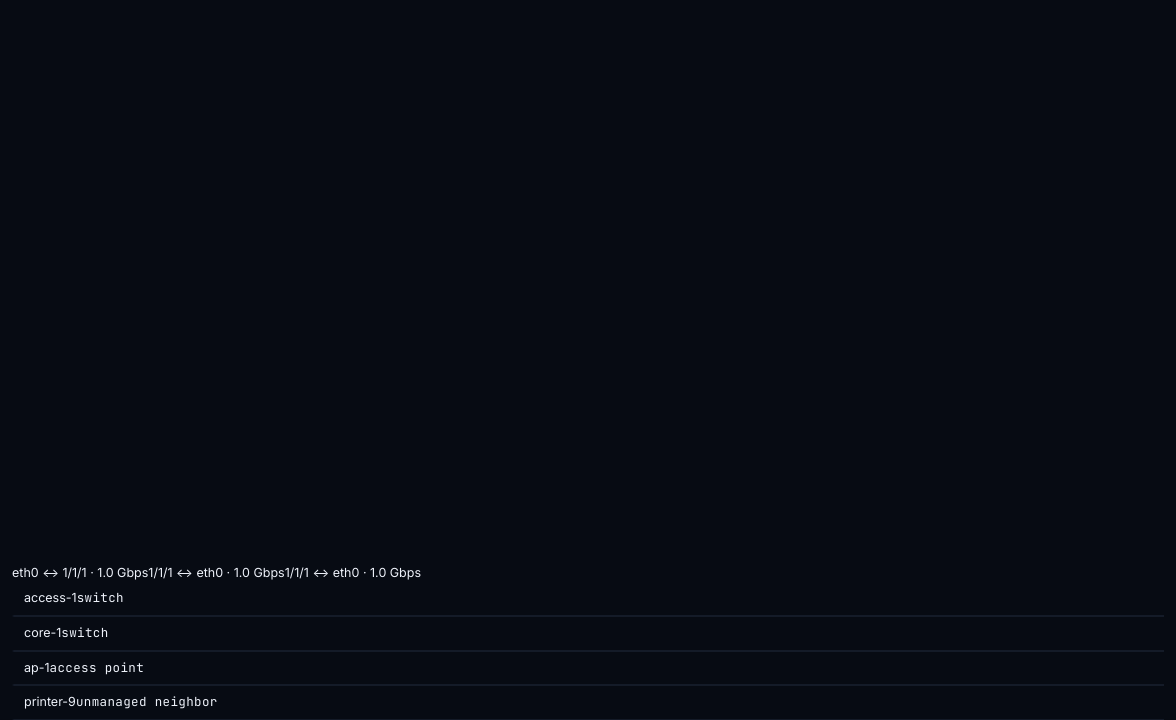
Test: SiteTopologyDiagram — entering focus › dims the edges that do not reach the focused node
(page scrolled)
What coordinates should you click on to do the following:
click the button with aria-label "Open device core-1"
I would click on:
 (43, 632)
Its box is x1=12 y1=616 x2=1164 y2=651.
(page scrolled)
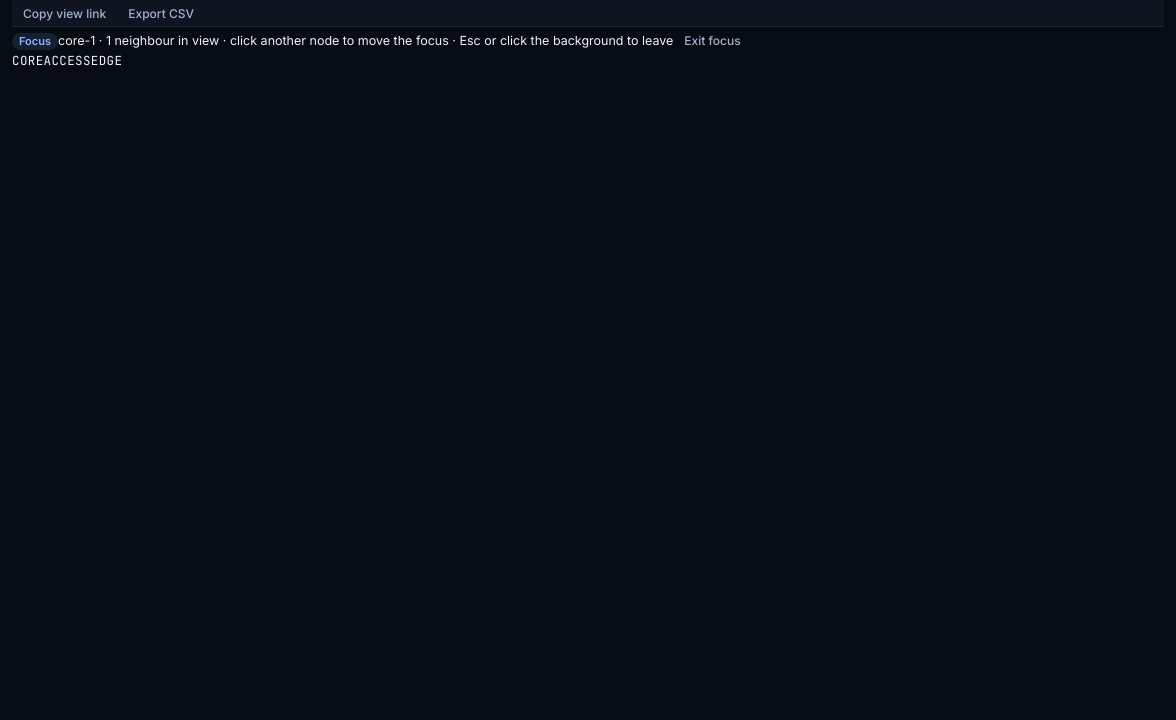
expect the text "core-1 · 1 neighbour in view" is shown: met, box x1=58 y1=32 x2=673 y2=48
